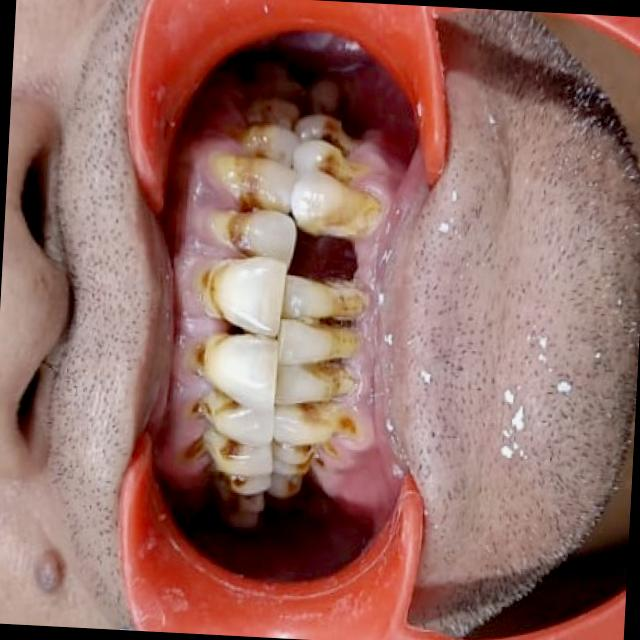No Cancer: (162, 75, 394, 594)
